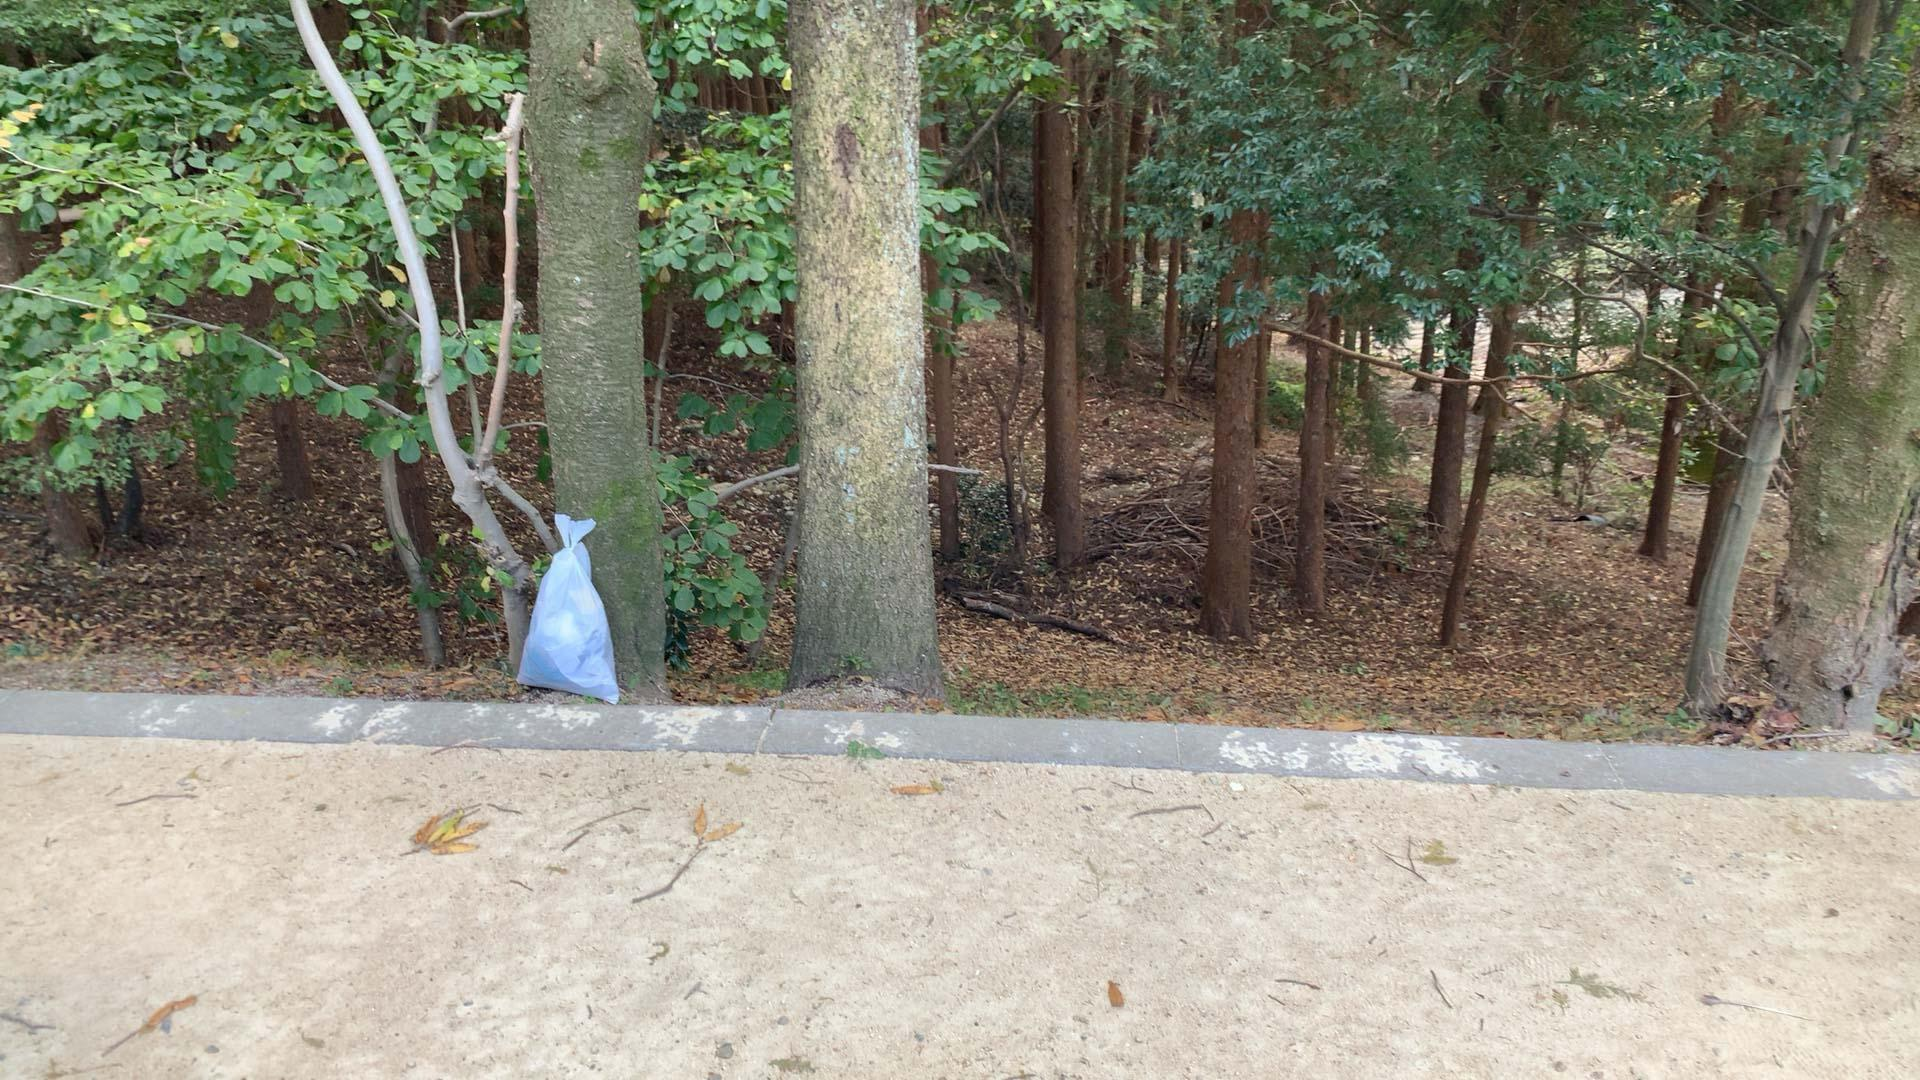white_bag: (510, 502, 632, 708)
